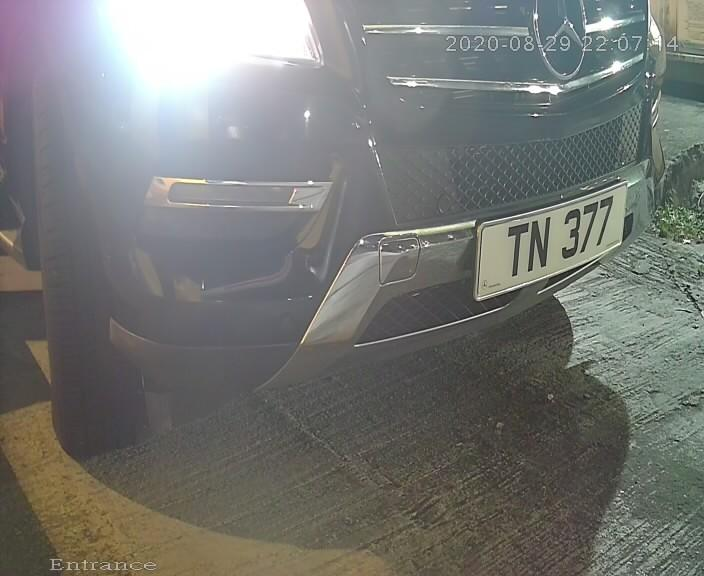License Plate: (431, 168, 654, 299)
